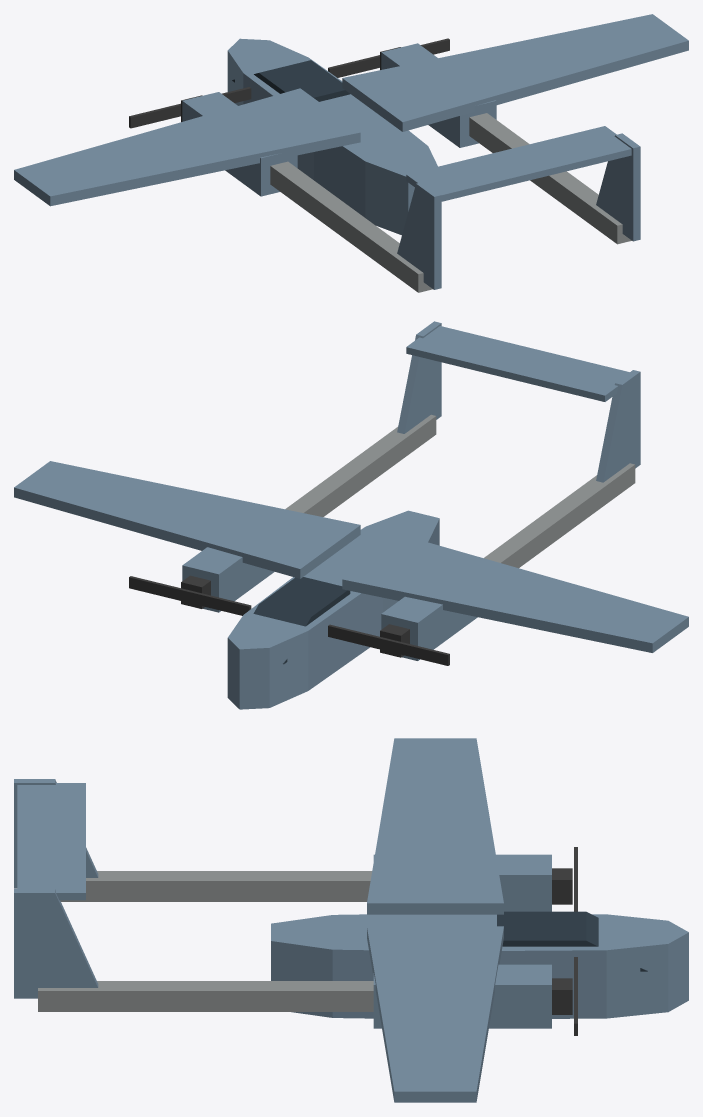
Rendered from recon.glb.
3 renders of one model, top to bottom at view 1: azimuth 30°, elevation 25°; view 2: azimuth 150°, elevation 25°; view 3: azimuth 270°, elevation 25°, orthographic. The views are drawn at different scales.
Parts seen in each view (by area): view 1: ReconPlane; view 2: ReconPlane; view 3: ReconPlane.
Part boxes in pixels (left/top/right/bottom): ReconPlane: left=14, top=14, right=688, bottom=292; ReconPlane: left=14, top=321, right=688, bottom=709; ReconPlane: left=14, top=738, right=688, bottom=1102.
Bounding box in the file's own units: 12.2 × 2.65 × 9.85.
